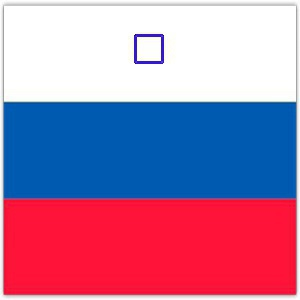square: (133, 33, 165, 65)
